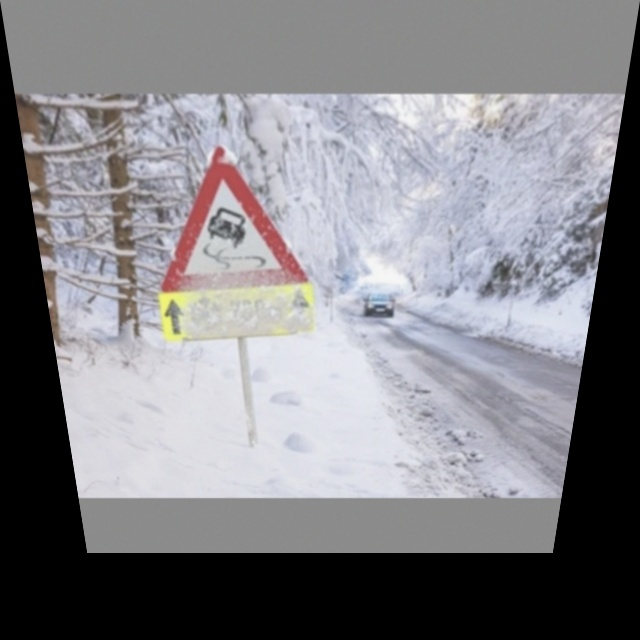Slippery_Road: (149, 139, 300, 303)
